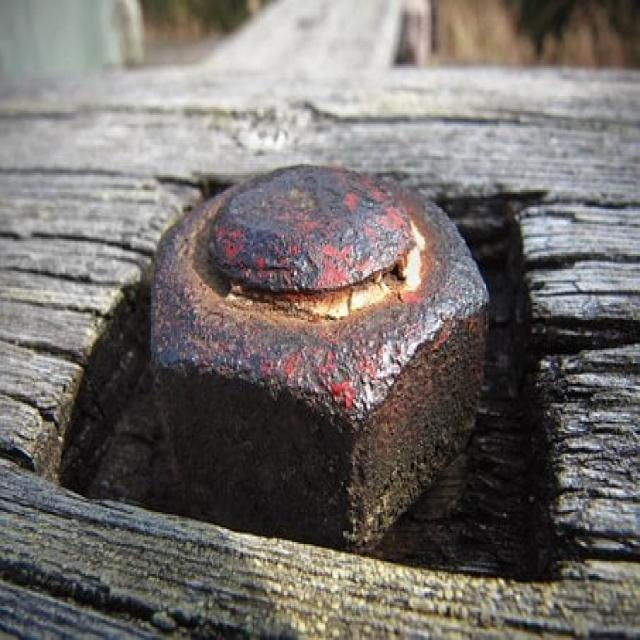corrosion: (134, 160, 498, 551), (306, 284, 395, 316), (402, 221, 427, 296)
